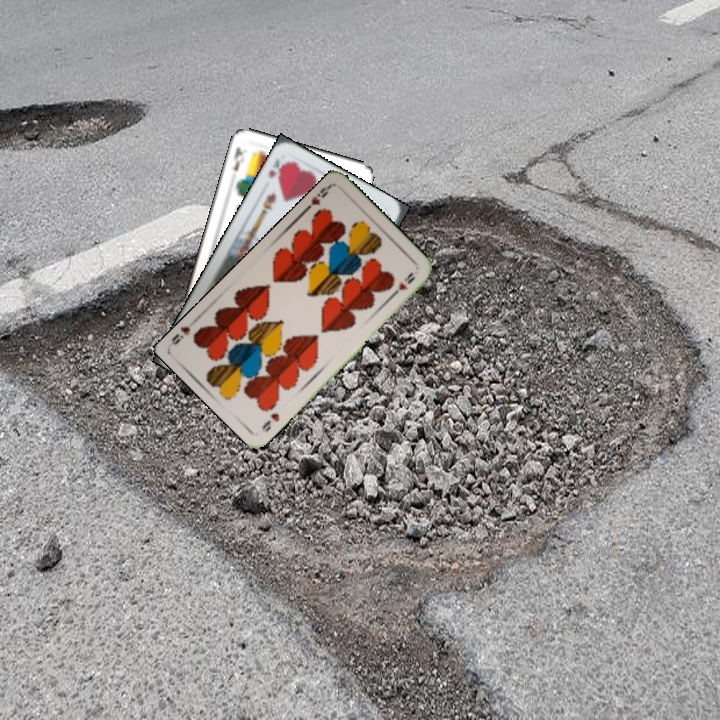EK: (229, 143, 250, 174)
H9: (301, 181, 333, 214), (258, 409, 282, 434)
HK: (264, 154, 291, 182)
